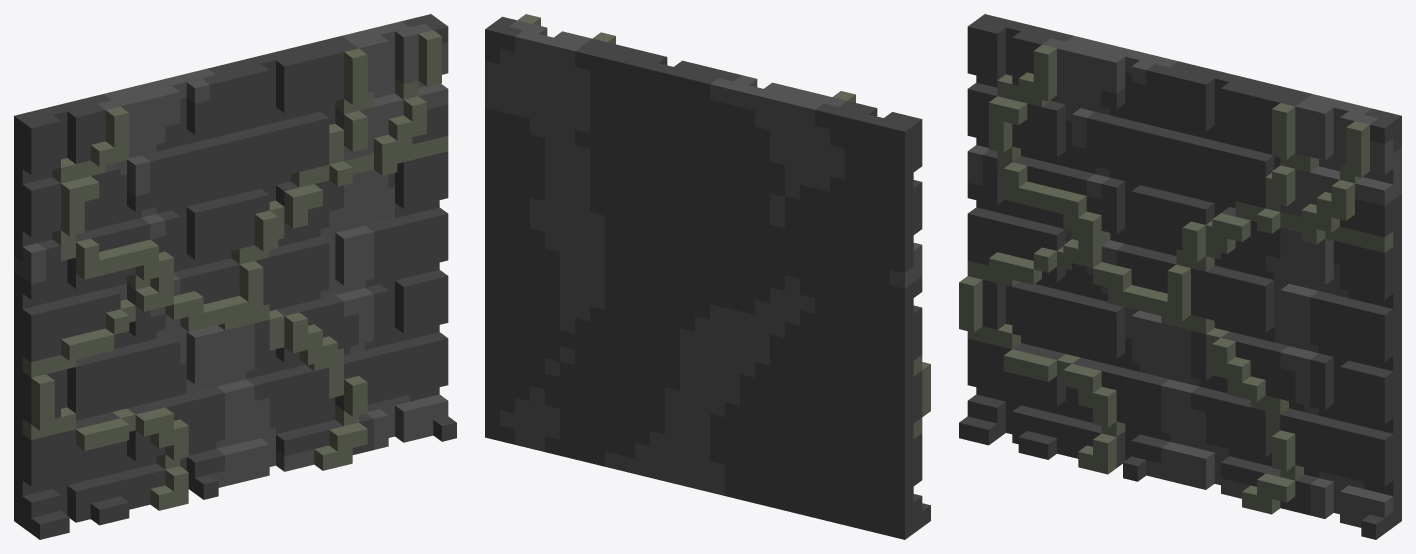
The model's file is Stenka1-34 2.obj.
3 views of the same model, side by side, from view 1: azimuth 30°, elevation 25°; view 2: azimuth 150°, elevation 25°; view 3: azimuth 330°, elevation 25° (orthographic).
Size of the model in its own units: 2.8 by 2.6 by 0.3.
Materials: 1 (1 with a texture image).
